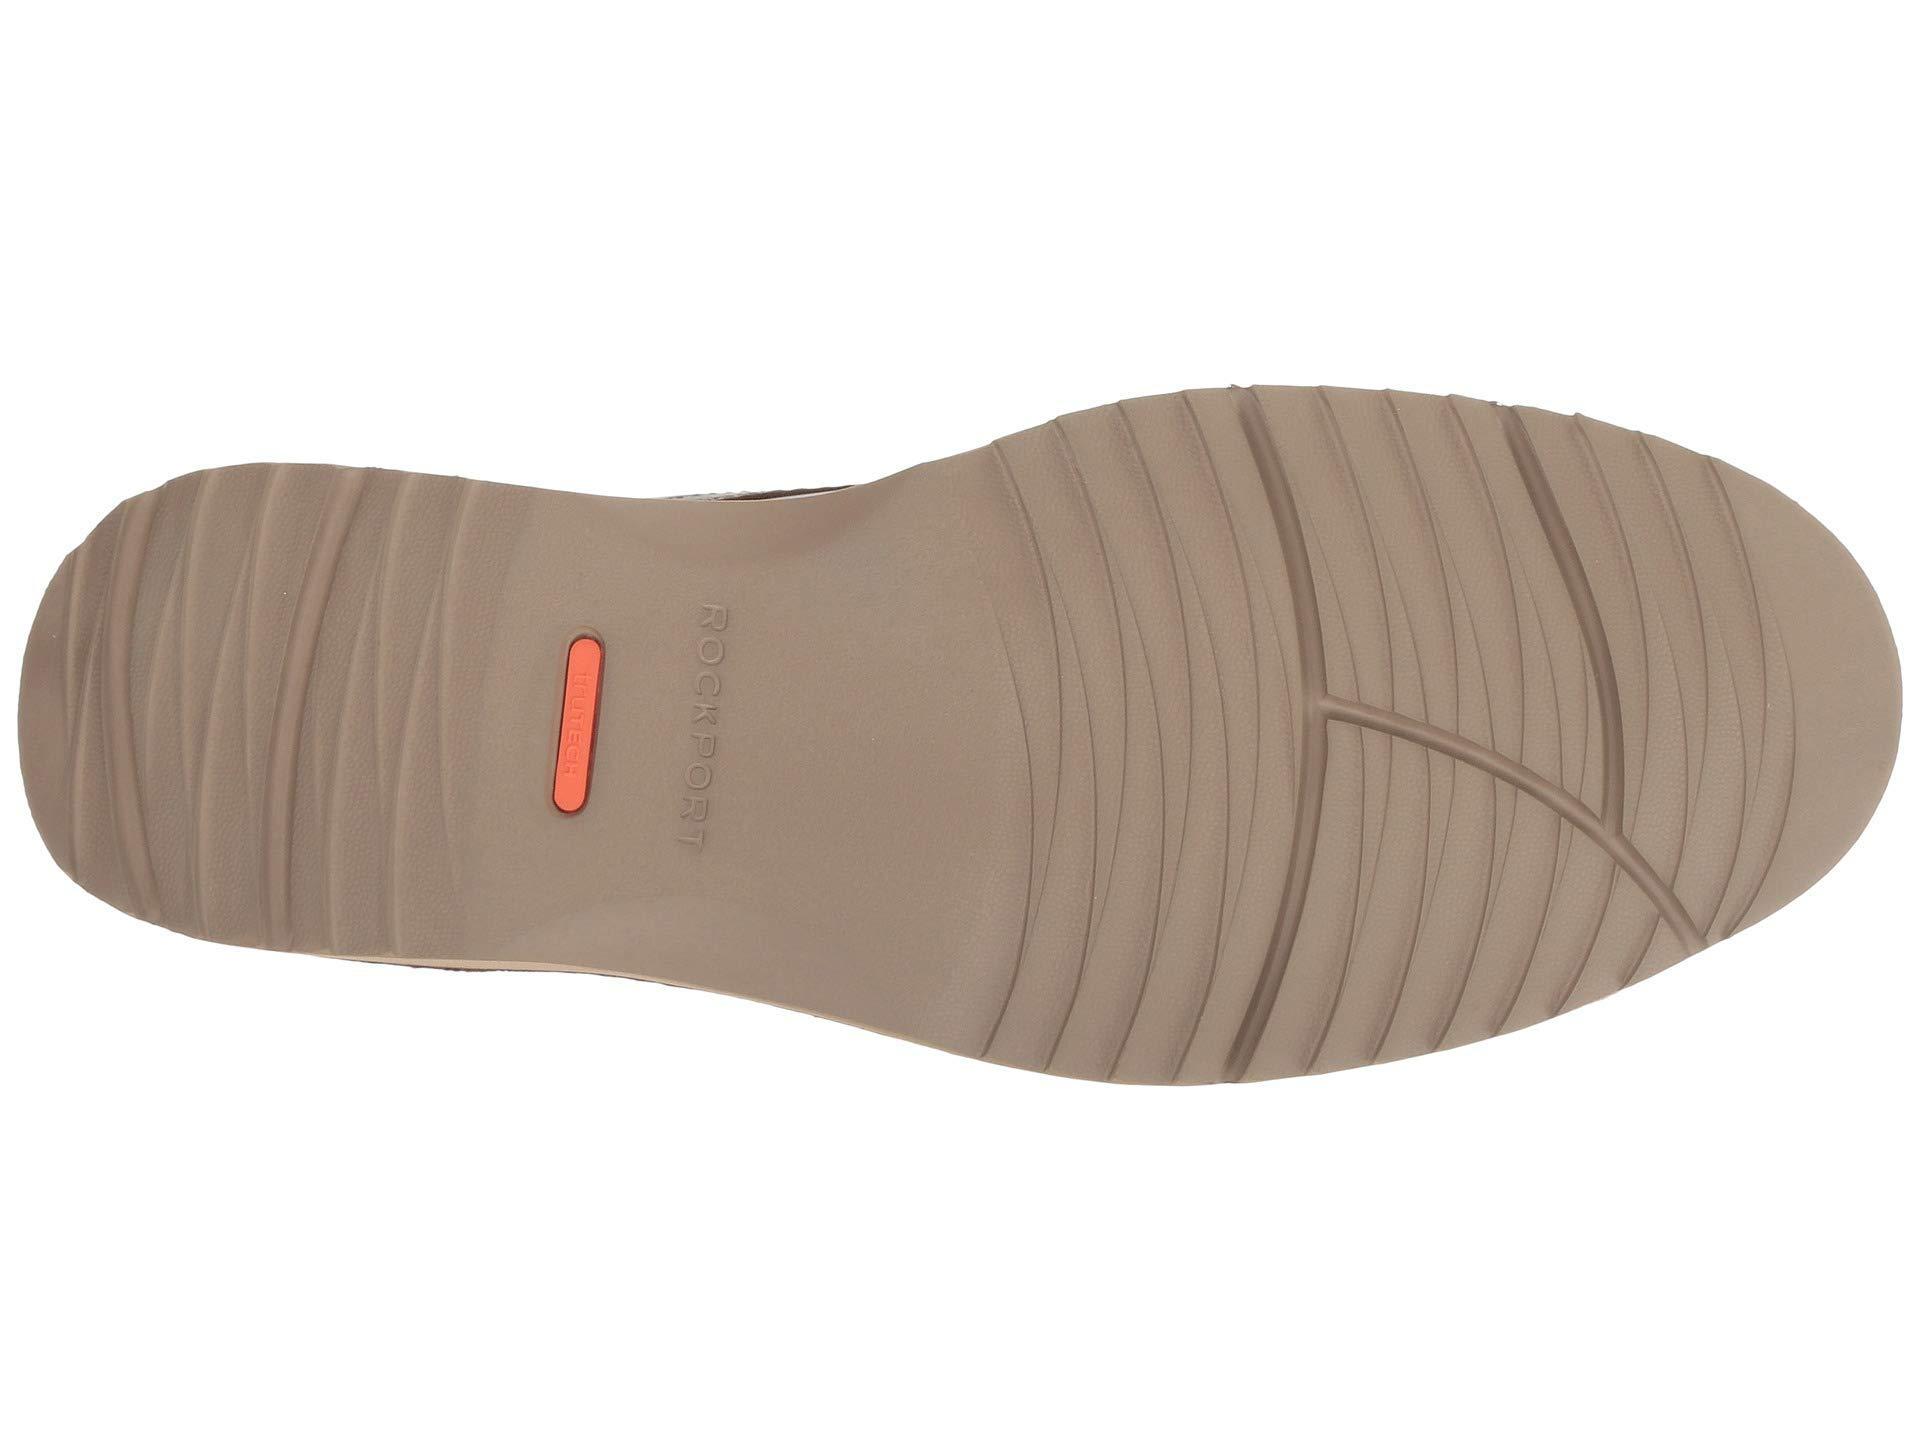circle: (661, 560, 786, 970)
line: (1200, 381, 1689, 1001), (122, 490, 429, 920)
quad: (543, 597, 614, 853)
text: (661, 560, 786, 970)
